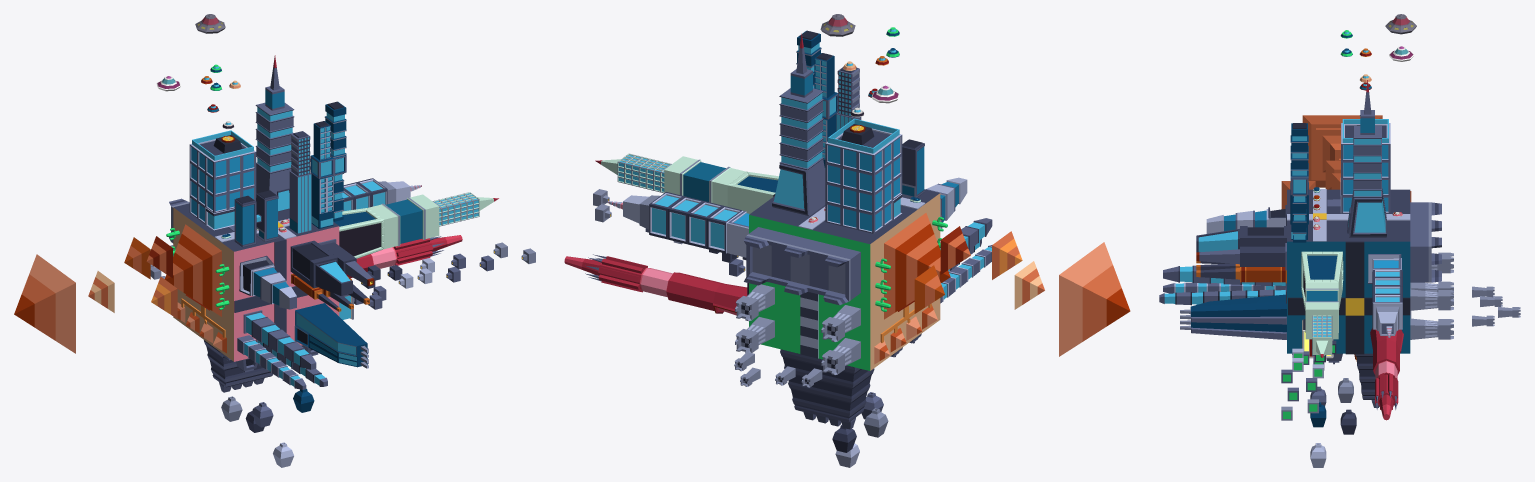
Rendered from world.glb.
The picture shows the model from 3 angles, left to right: view 1: azimuth 30°, elevation 25°; view 2: azimuth 150°, elevation 25°; view 3: azimuth 270°, elevation 25°; orthographic projection. The views are drawn at different scales.
Parts seen in each view (by area): view 1: Cube, Cube.032, Cube.031, Cube.033, Cube.034, Cube.035; view 2: Cube, Cube.032, Cube.033, Cube.035, Cube.034, Cube.031; view 3: Cube, Cube.032, Cube.015.
Part boxes in pixels (box(x1,y1,x2,y2)): Cube: box(161, 55, 498, 392); Cube.032: box(14, 254, 75, 353); Cube.031: box(151, 276, 177, 318); Cube.033: box(88, 271, 114, 312); Cube.034: box(146, 236, 172, 278); Cube.035: box(124, 237, 150, 279); Cube: box(564, 30, 992, 429); Cube.032: box(1059, 242, 1130, 356); Cube.033: box(1014, 261, 1044, 309); Cube.035: box(914, 265, 944, 313); Cube.034: box(940, 226, 970, 274); Cube.031: box(992, 231, 1022, 279); Cube: box(1159, 80, 1453, 420); Cube.032: box(1302, 115, 1382, 187); Cube.015: box(1385, 14, 1416, 34).
Size of the model in its own units: 9.34 by 7.77 by 5.85.
4 materials, 3 textured.
